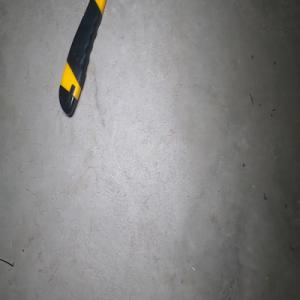Cutter: (57, 0, 107, 117)
